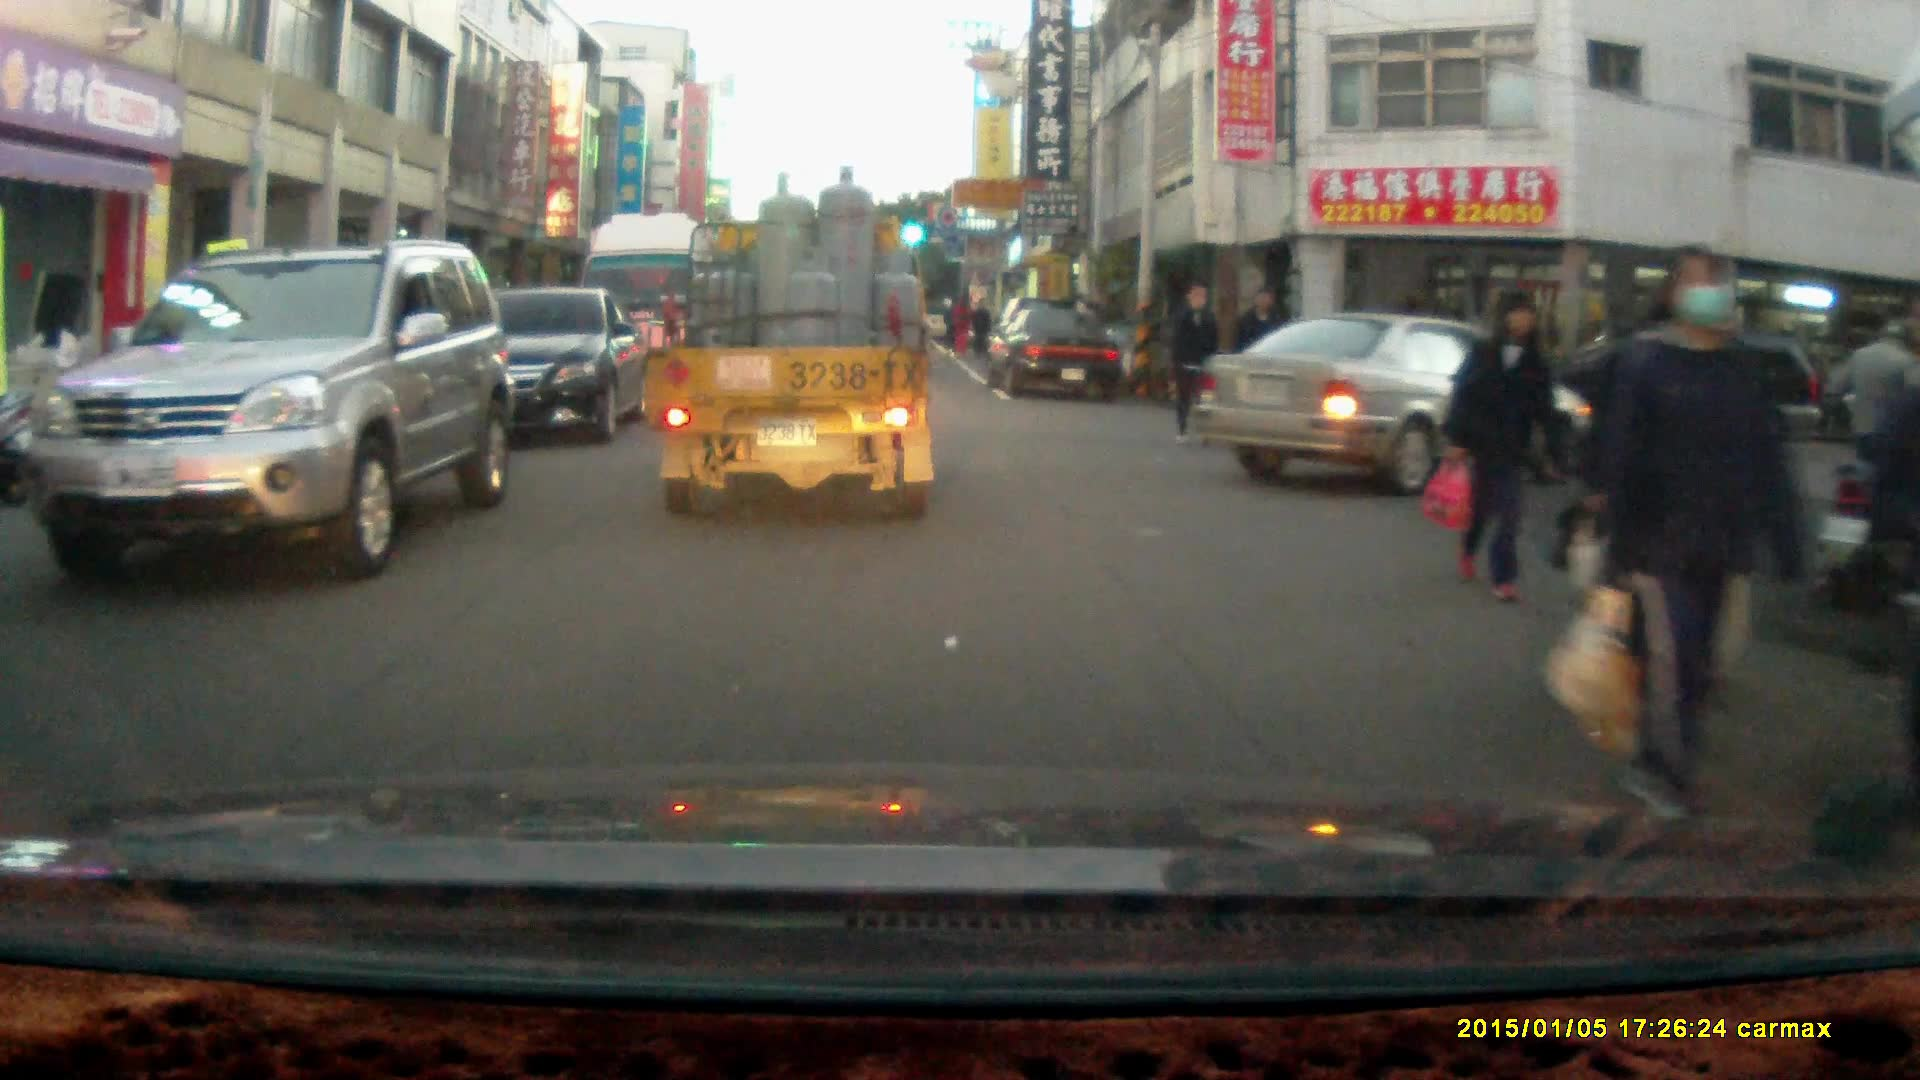pedestrian: (1597, 240, 1807, 814), (1443, 293, 1562, 609), (1165, 279, 1222, 453), (1231, 283, 1288, 436), (967, 296, 994, 363)
rider: (1813, 314, 1915, 616)
vehicle: (12, 234, 513, 583), (646, 161, 935, 523), (1201, 310, 1605, 500), (416, 282, 644, 442), (577, 211, 743, 404), (984, 302, 1127, 399)
